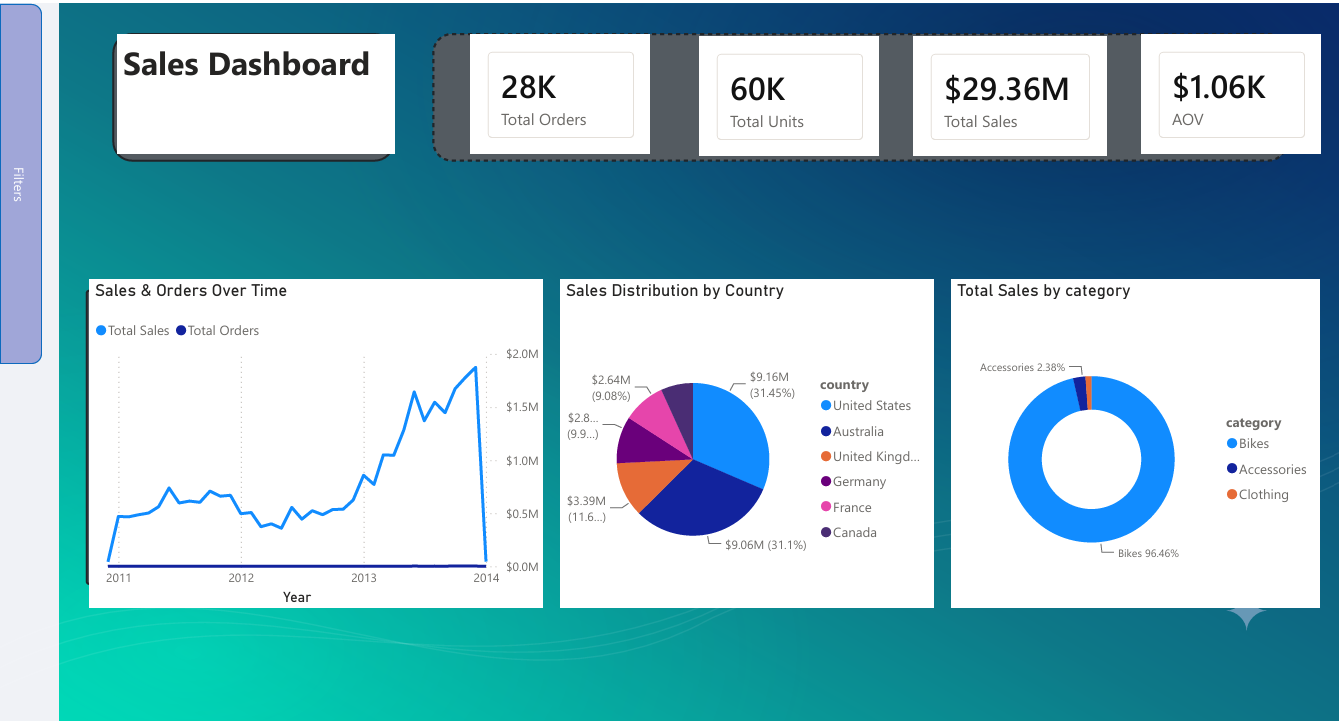

The page's visual inventory and layout, read from the dashboard file:
{"tool":"powerbi","page":{"name":"Sales Overview","canvas":[1600,690],"ordinal":0},"visuals":[{"type":"shape","title":"Slicer_shpw_box","box":[8.7,97.2,261.1,456.2],"z":0,"group":"g1"},{"type":"group","id":"g1","title":"slicer panel","box":[8.7,97.2,261.1,456.2],"z":1000,"group":"g2"},{"type":"slicer","title":"Slicer_country","fields":{"Values":["gold dim_customers.country"]},"box":[36.8,461.8,195.3,72.3],"z":1000,"group":"g1"},{"type":"pieChart","title":"Sales Distribution by Country","fields":{"Category":["gold dim_customers.country"],"Y":["_All Measures.Total Sales"]},"box":[302,208.2,380,449.5],"z":2000},{"type":"slicer","title":"Slicer_product","fields":{"Values":["gold dim_products.product_line"]},"box":[34.6,364.6,205,84.9],"z":2000,"group":"g1"},{"type":"slicer","title":"Slicer_order_date","fields":{"Values":["gold fact_sales.order_date"]},"box":[28.1,188.4,211.5,91.2],"z":3000,"group":"g1"},{"type":"cardVisual","fields":{"Data":["_All Measures.Total Orders"]},"box":[302,39.9,307.9,154],"z":4000},{"type":"slicer","title":"Slicer_category","fields":{"Values":["gold dim_products.category"]},"box":[34.6,267.1,205,97.5],"z":4000,"group":"g1"},{"type":"textbox","title":"slicer_text_box","box":[64.8,116.1,146.7,72.4],"z":5000,"group":"g1"},{"type":"lineChart","title":"Sales & Orders Over Time","fields":{"Category":["gold fact_sales.order_date.Variation.Date Hierarchy.Year","gold fact_sales.order_date.Variation.Date Hierarchy.Month"],"Y2":["_All Measures.Total Sales","_All Measures.Total Orders"]},"box":[695.9,208.2,515.4,451.2],"z":6000},{"type":"shape","box":[0,0,284.6,657.7],"z":8000},{"type":"group","id":"g2","title":"slicers","box":[8.7,97.2,262,456.4],"z":9000},{"type":"clusteredBarChart","fields":{"Category":["gold dim_products.category"],"Y":["_All Measures.Total Sales"]},"box":[1226.9,208.2,359.2,449.5],"z":10000},{"type":"cardVisual","fields":{"Data":["_All Measures.Total Units"]},"box":[626.5,39.9,307.9,155.5],"z":11000},{"type":"cardVisual","fields":{"Data":["_All Measures.Total Sales"]},"box":[954.4,39.9,307.9,157],"z":12000},{"type":"cardVisual","fields":{"Data":["_All Measures.AOV"]},"box":[1279,38.2,307.2,154.4],"z":13000}]}

Visuals, with their boxes on the page's 1600x690 design canvas (x1, y1, x2, y2). These are canvas units, not pixel positions in the 1339x721 screenshot, which may show the page scaled, cropped or inside an application window:
"Slicer_shpw_box" shape: x1=9 y1=97 x2=270 y2=553
"slicer panel" group: x1=9 y1=97 x2=270 y2=553
"Slicer_country" slicer: x1=37 y1=462 x2=232 y2=534
"Sales Distribution by Country" pieChart: x1=302 y1=208 x2=682 y2=658
"Slicer_product" slicer: x1=35 y1=365 x2=240 y2=450
"Slicer_order_date" slicer: x1=28 y1=188 x2=240 y2=280
cardVisual - _All Measures.Total Orders: x1=302 y1=40 x2=610 y2=194
"Slicer_category" slicer: x1=35 y1=267 x2=240 y2=365
"slicer_text_box" textbox: x1=65 y1=116 x2=212 y2=188
"Sales & Orders Over Time" lineChart: x1=696 y1=208 x2=1211 y2=659
shape: x1=0 y1=0 x2=285 y2=658
"slicers" group: x1=9 y1=97 x2=271 y2=554
clusteredBarChart - gold dim_products.category x _All Measures.Total Sales: x1=1227 y1=208 x2=1586 y2=658
cardVisual - _All Measures.Total Units: x1=626 y1=40 x2=934 y2=195
cardVisual - _All Measures.Total Sales: x1=954 y1=40 x2=1262 y2=197
cardVisual - _All Measures.AOV: x1=1279 y1=38 x2=1586 y2=193
